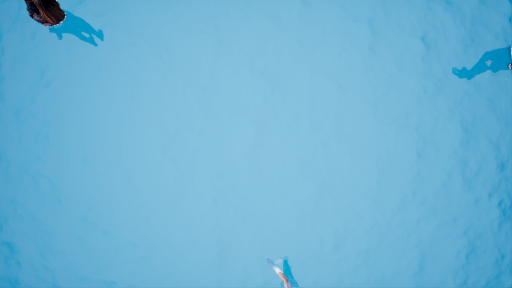person: (28, 1, 106, 50), (260, 247, 311, 288), (461, 40, 512, 80)
